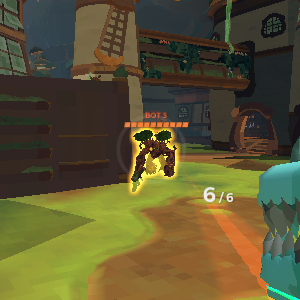model: (133, 129, 174, 179)
